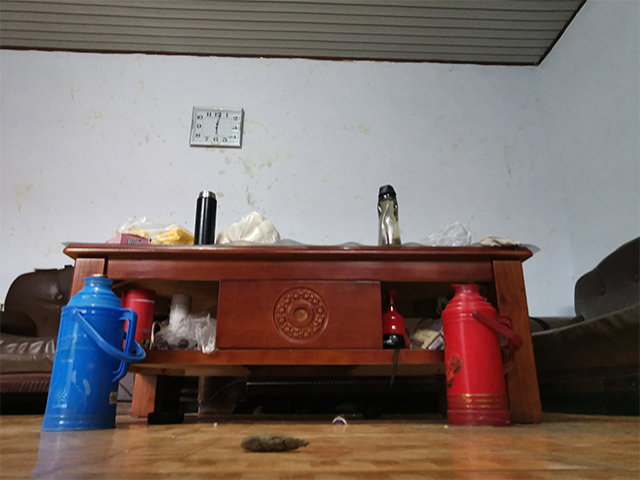feces: (239, 430, 312, 454)
sofa: (529, 231, 639, 418), (1, 263, 79, 415)
table: (58, 238, 545, 427)
